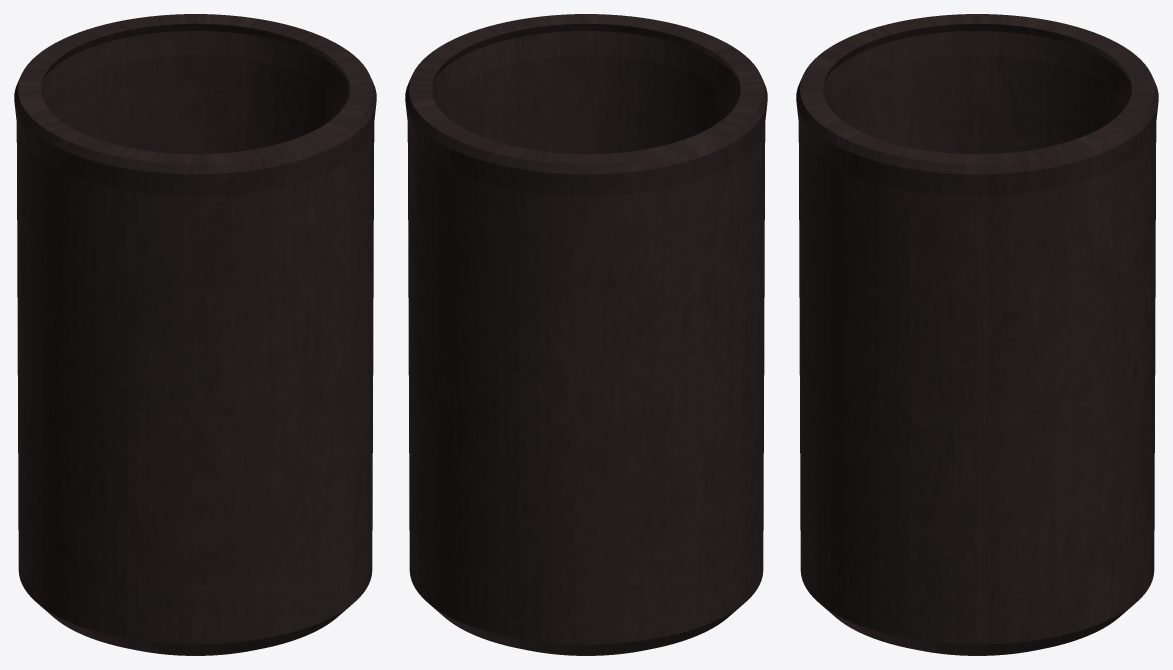
The picture shows the model from 3 angles, left to right: view 1: azimuth 30°, elevation 25°; view 2: azimuth 150°, elevation 25°; view 3: azimuth 270°, elevation 25°; orthographic projection.
Parts seen in each view (by area): view 1: handle_free_cup; view 2: handle_free_cup; view 3: handle_free_cup.
Part boxes in pixels (box(x1,y1,x2,y2)): handle_free_cup: box(14, 14, 376, 655); handle_free_cup: box(405, 14, 767, 655); handle_free_cup: box(796, 14, 1158, 655).
Bounding box in the file's own units: 0.564 × 0.875 × 0.564.
Materials: 1 (1 with a texture image).
